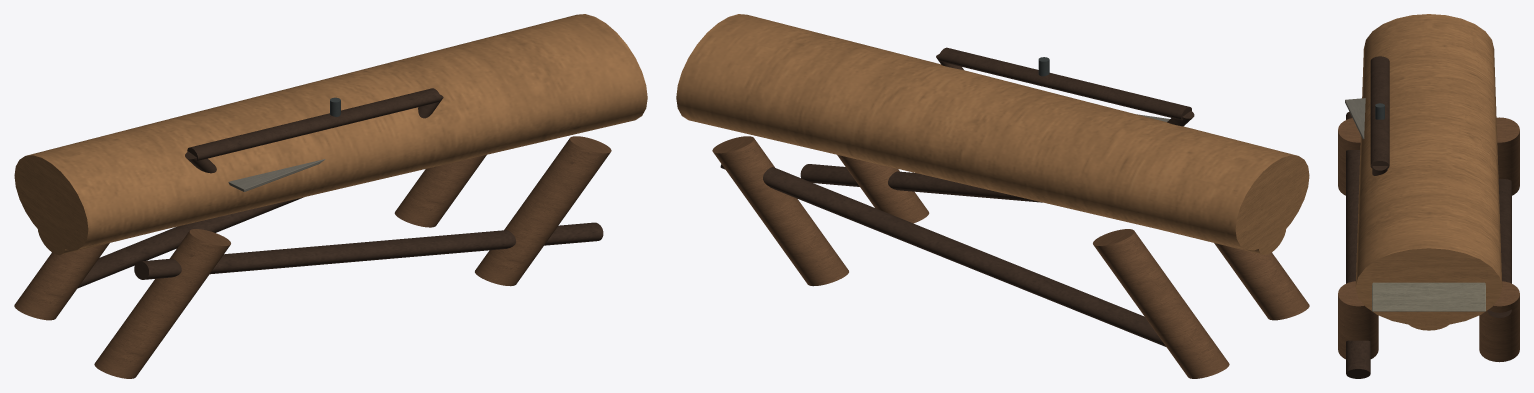
The model's file is sawhorse.glb.
The picture shows the model from 3 angles, left to right: view 1: azimuth 30°, elevation 25°; view 2: azimuth 150°, elevation 25°; view 3: azimuth 270°, elevation 25°; orthographic projection. The views are drawn at different scales.
Visible parts, largest first — view 1: sawhorse; view 2: sawhorse; view 3: sawhorse.
Boxes of the visible parts, left/top/right/bottom form: sawhorse: left=14, top=14, right=647, bottom=378; sawhorse: left=676, top=14, right=1309, bottom=378; sawhorse: left=1338, top=14, right=1519, bottom=378.
Size of the model in its own units: 2.5 by 0.9 by 0.8.
1 material, 1 textured.
